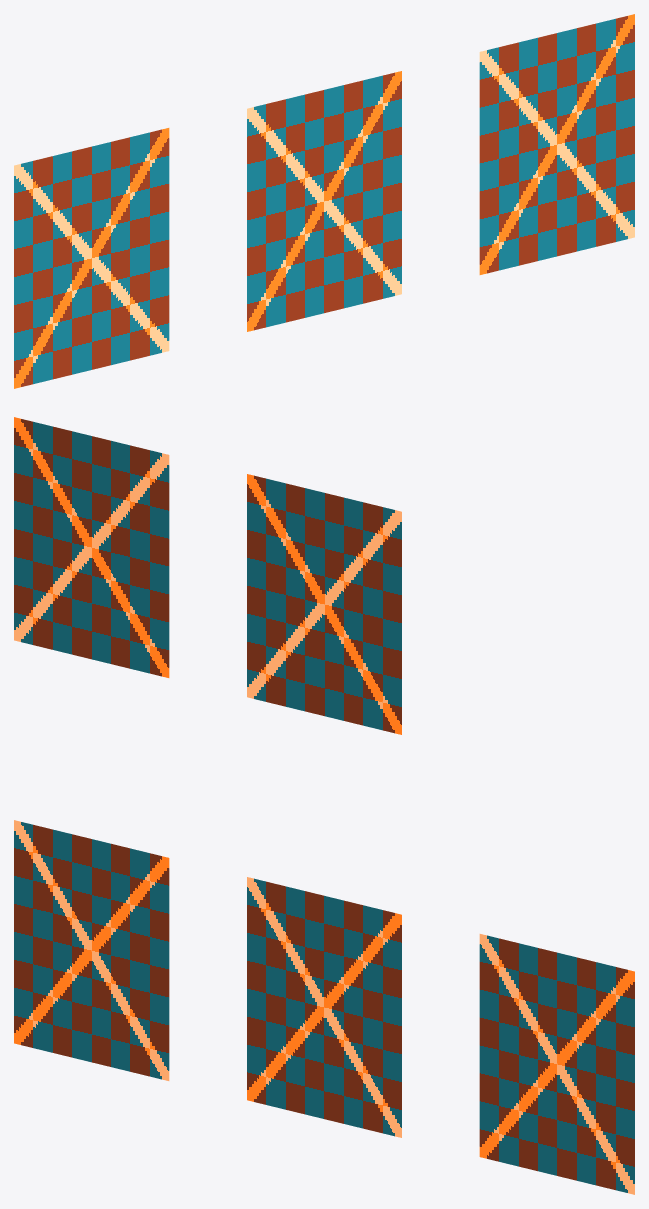
The model's file is material-reference.glb.
3 views of the same model, one above another, from view 1: azimuth 30°, elevation 25°; view 2: azimuth 150°, elevation 25°; view 3: azimuth 330°, elevation 25° (orthographic).
Visible parts, largest first — view 1: Material Cards; view 2: Material Cards; view 3: Material Cards.
Part boxes in pixels (x1,y1,x2,y2): Material Cards: (14,14,634,388); Material Cards: (14,417,401,734); Material Cards: (14,820,634,1194).
Size of the model in its own units: 6.4 by 2.2 by 0.
3 materials, 3 textured.
